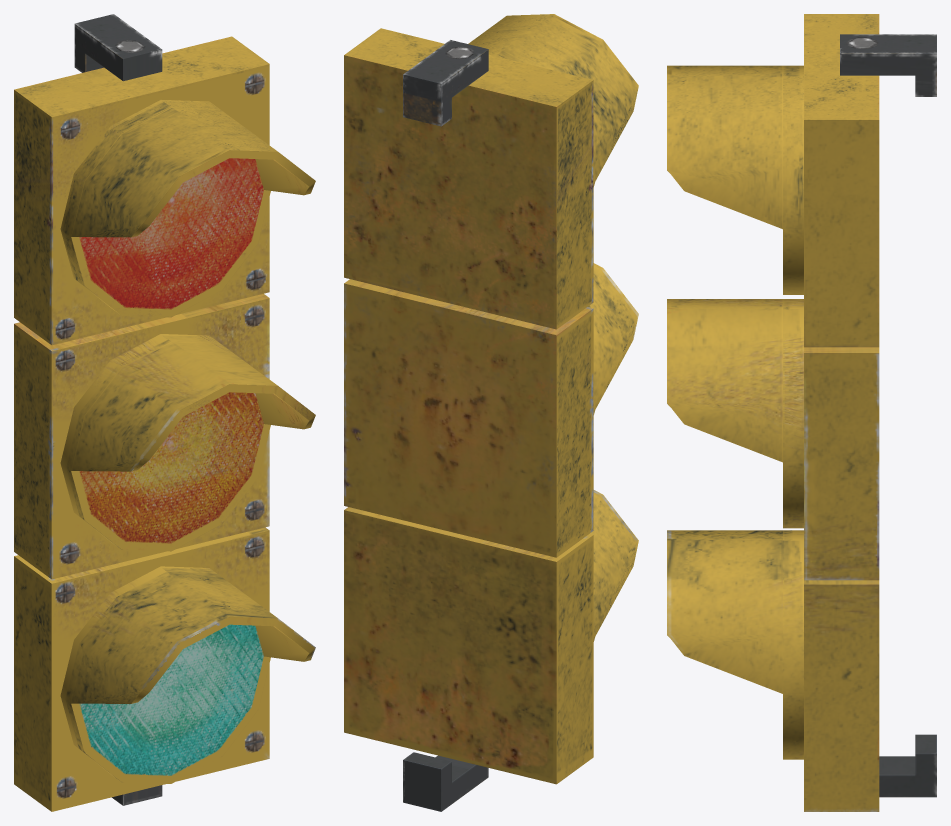
Rendered from Traffic-Light.fbx.
The picture shows the model from 3 angles, left to right: view 1: azimuth 30°, elevation 25°; view 2: azimuth 150°, elevation 25°; view 3: azimuth 270°, elevation 25°; orthographic projection. The views are drawn at different scales.
Visible parts, largest first — view 1: Traffic_Light; view 2: Traffic_Light; view 3: Traffic_Light.
Boxes of the visible parts, left/top/right/bottom form: Traffic_Light: left=14, top=14, right=315, bottom=811; Traffic_Light: left=344, top=14, right=638, bottom=811; Traffic_Light: left=667, top=14, right=936, bottom=811.
Bounding box in the file's own units: 21.94 × 71.81 × 23.6.
